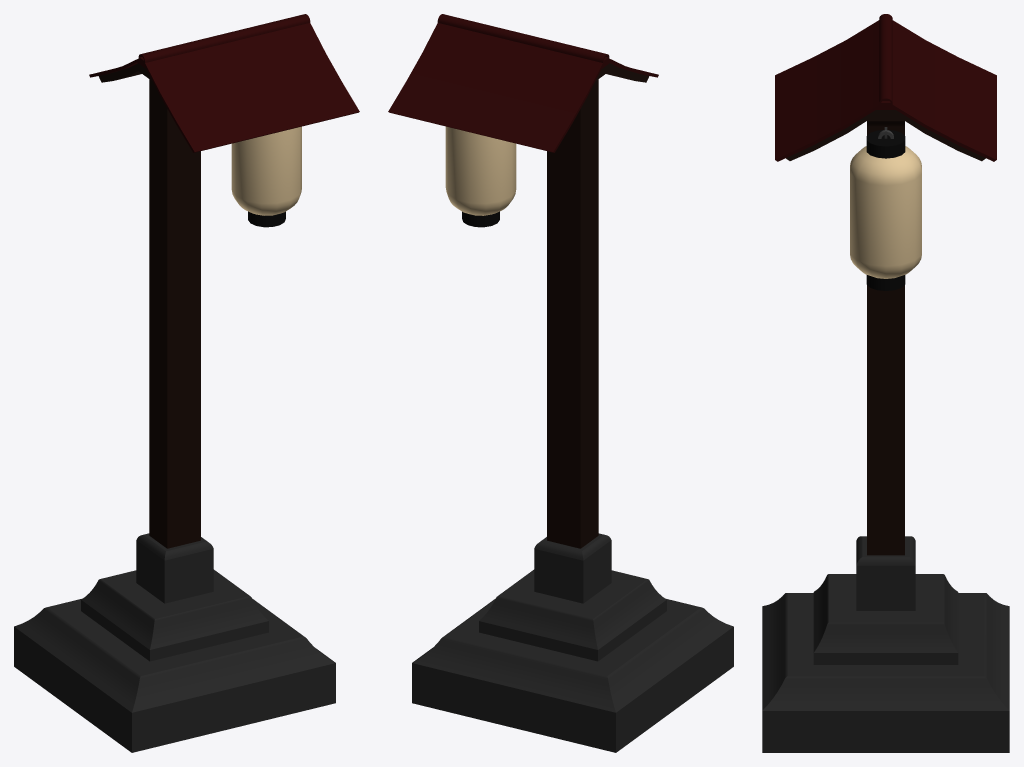
File: Paper_Lantern.fbx
3 views of the same model, side by side, from view 1: azimuth 30°, elevation 25°; view 2: azimuth 150°, elevation 25°; view 3: azimuth 270°, elevation 25° (orthographic). The views are drawn at different scales.
Visible parts, largest first — view 1: Object003; view 2: Object003; view 3: Object003.
Part boxes in pixels (<box>): Object003: <box>14,14,359,752</box>; Object003: <box>388,14,733,752</box>; Object003: <box>762,14,1009,752</box>.
Size of the model in its own units: 42.68 by 111 by 37.23.
